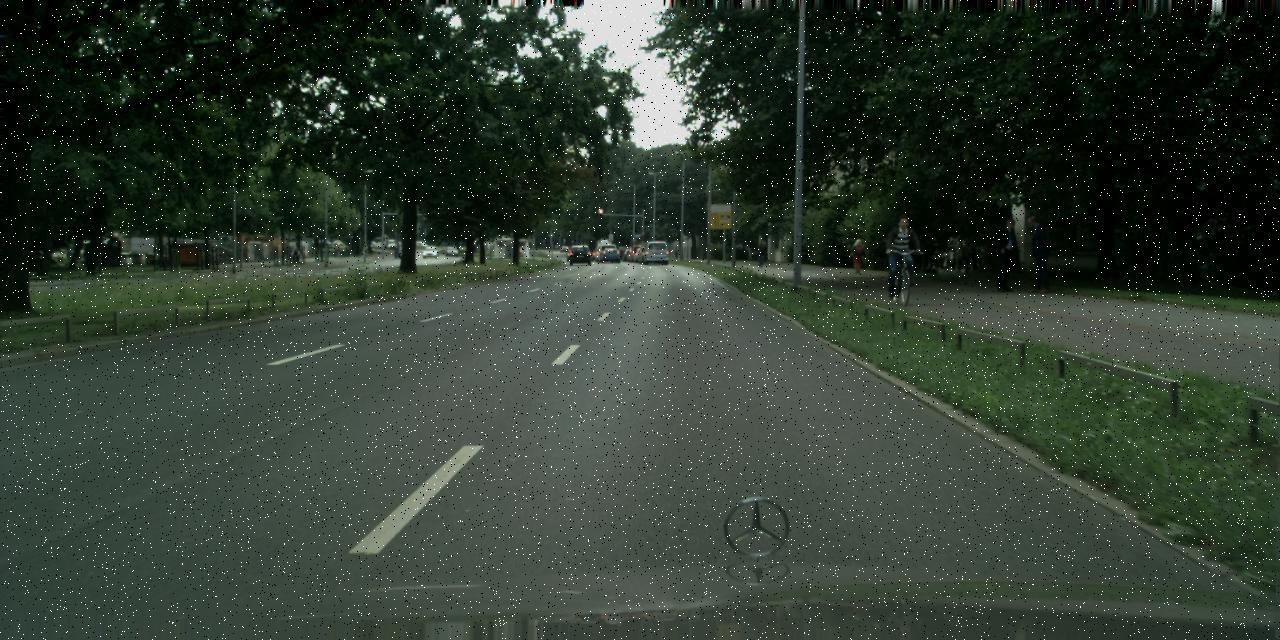ped: (1020, 215, 1052, 292), (887, 215, 918, 293), (991, 218, 1021, 291), (850, 238, 864, 273), (756, 241, 766, 263), (292, 247, 298, 263), (334, 244, 340, 256), (674, 246, 678, 258)
